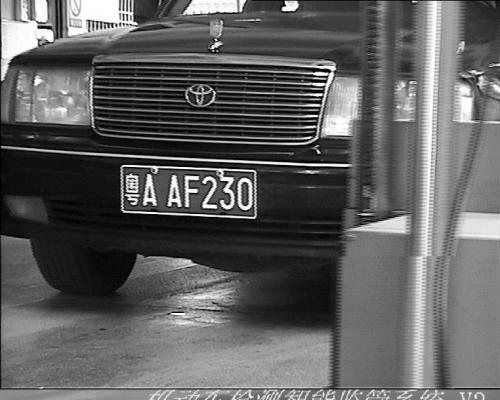Carplate: (106, 156, 265, 224)
